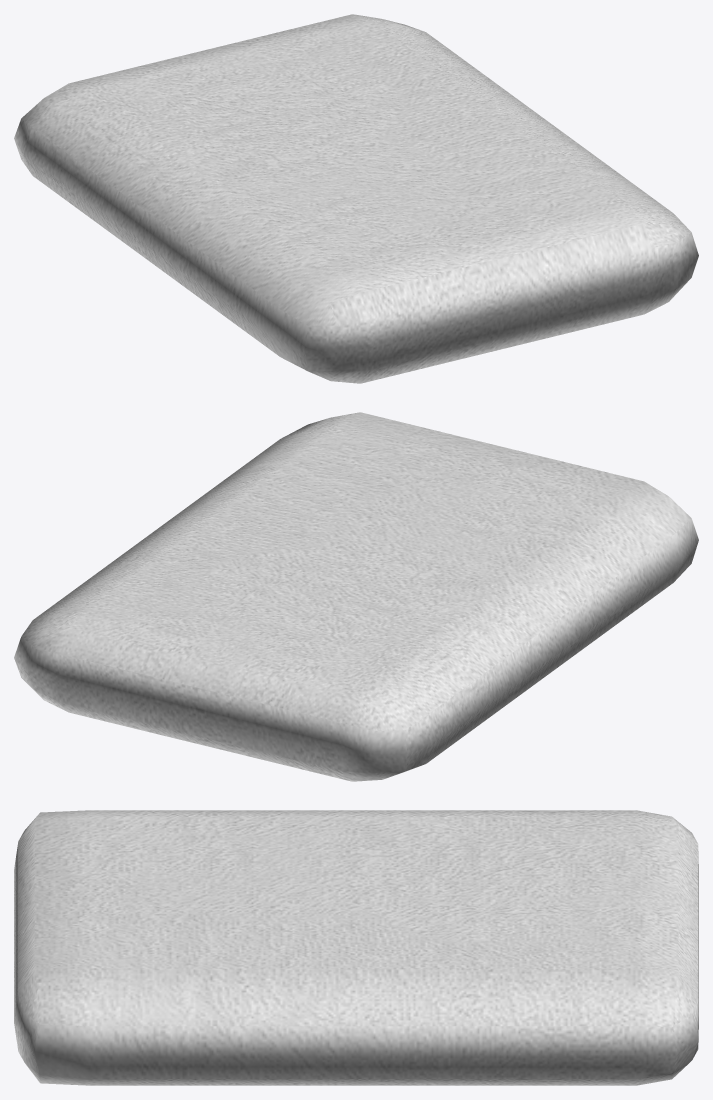
File: maojing.fbx
The picture shows the model from 3 angles, top to bottom: view 1: azimuth 30°, elevation 25°; view 2: azimuth 150°, elevation 25°; view 3: azimuth 270°, elevation 25°; orthographic projection. The views are drawn at different scales.
Parts seen in each view (by area): view 1: maojing; view 2: maojing; view 3: maojing.
Part boxes in pixels (left/top/right/bottom): maojing: left=14, top=14, right=698, bottom=383; maojing: left=14, top=412, right=698, bottom=781; maojing: left=14, top=810, right=698, bottom=1085.
Bounding box in the file's own units: 7.14 × 1.59 × 9.36.
